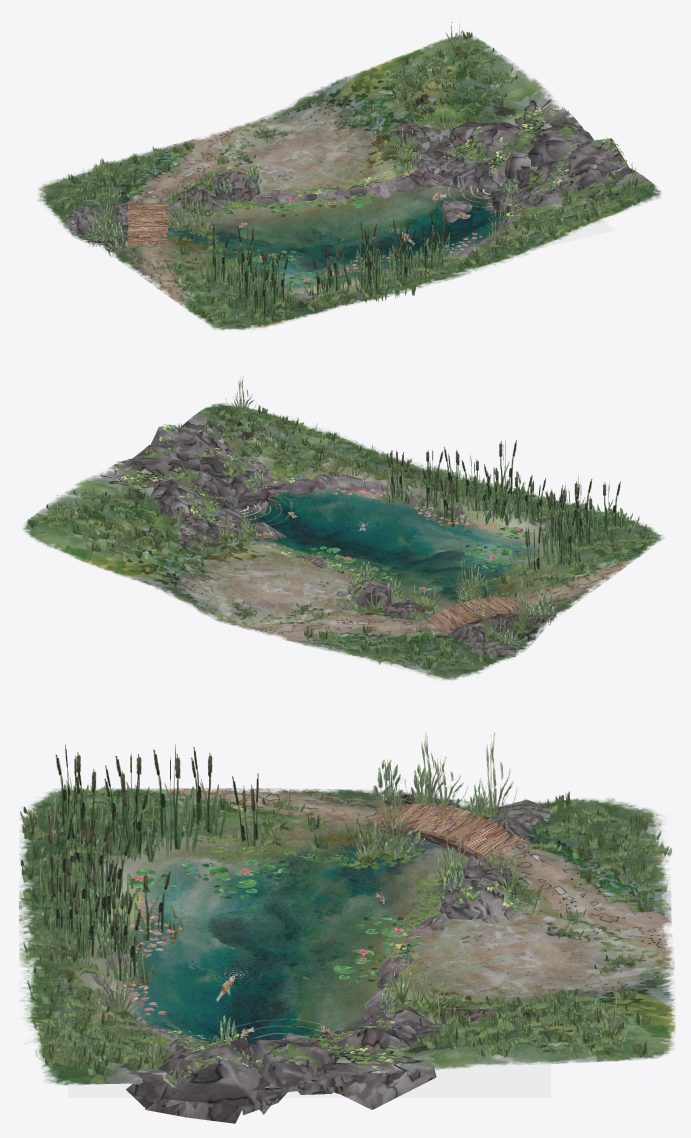
The model's file is pond_with_waterfalls.glb.
3 views of the same model, one above another, from view 1: azimuth 30°, elevation 25°; view 2: azimuth 150°, elevation 25°; view 3: azimuth 270°, elevation 25° (orthographic). The views are drawn at different scales.
Parts seen in each view (by area): view 1: Plane.002, Icosphere.004, Icosphere.005, Icosphere.010, Icosphere.012, Icosphere.018, Icosphere.001, Icosphere.011, Plane.056, Icosphere.024, Plane.084, Icosphere (+16 smaller); view 2: Plane.002, Icosphere.004, Icosphere.012, Icosphere.010, Icosphere.005, Icosphere.001, Icosphere.018, Plane.084, Plane.059, Plane.037, Plane.085, Plane.056 (+15 smaller); view 3: Plane.002, Icosphere.012, Icosphere.010, Icosphere.004, Icosphere.018, Plane.084, Plane.056, Plane.085, Plane.083, Plane.059, Plane.090, Plane.036 (+31 smaller).
Boxes of the visible parts, <box> form: Plane.002: <box>38,34,660,330</box>; Icosphere.004: <box>511,127,593,166</box>; Icosphere.005: <box>432,146,497,189</box>; Icosphere.010: <box>465,121,525,162</box>; Icosphere.012: <box>564,138,629,173</box>; Icosphere.018: <box>212,171,259,203</box>; Icosphere.001: <box>511,182,567,208</box>; Icosphere.011: <box>559,163,611,194</box>; Plane.056: <box>357,228,390,302</box>; Icosphere.024: <box>174,187,232,216</box>; Plane.084: <box>229,225,267,292</box>; Icosphere: <box>475,156,506,191</box>; Plane.002: <box>22,403,664,680</box>; Icosphere.004: <box>131,445,202,491</box>; Icosphere.012: <box>150,426,214,456</box>; Icosphere.010: <box>150,480,203,513</box>; Icosphere.005: <box>195,498,242,534</box>; Icosphere.001: <box>228,454,268,495</box>; Icosphere.018: <box>347,580,391,607</box>; Plane.084: <box>541,485,569,557</box>; Plane.059: <box>380,450,412,507</box>; Plane.037: <box>436,447,471,507</box>; Plane.085: <box>544,511,584,568</box>; Plane.056: <box>485,440,525,501</box>; Plane.002: <box>19,788,676,1090</box>; Icosphere.012: <box>145,1043,261,1123</box>; Icosphere.010: <box>327,1025,436,1109</box>; Icosphere.004: <box>251,1039,359,1093</box>; Icosphere.018: <box>440,874,511,919</box>; Plane.084: <box>142,744,202,859</box>; Plane.056: <box>26,810,84,918</box>; Plane.085: <box>181,747,229,839</box>; Plane.083: <box>102,782,160,865</box>; Plane.059: <box>94,900,155,991</box>; Plane.090: <box>43,744,100,830</box>; Plane.036: <box>82,831,139,916</box>.
Bounding box in the file's own units: 1821 × 439 × 1462.
Materials: 4 (3 with a texture image).
